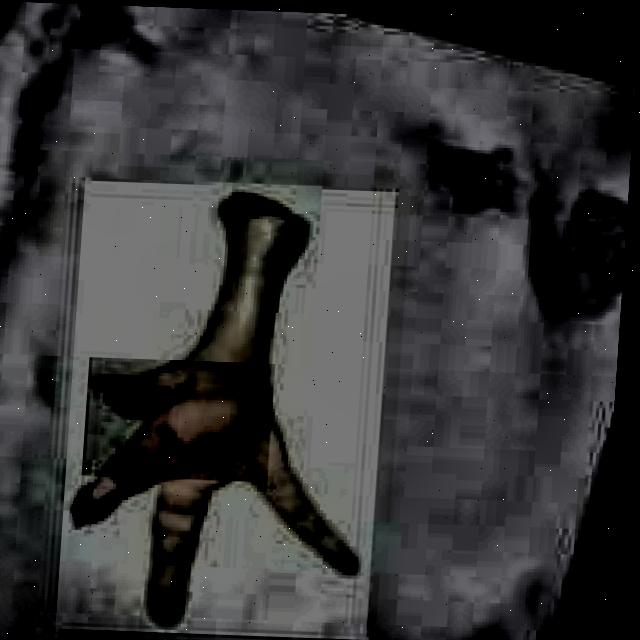Bumble foot: (73, 186, 391, 632)
